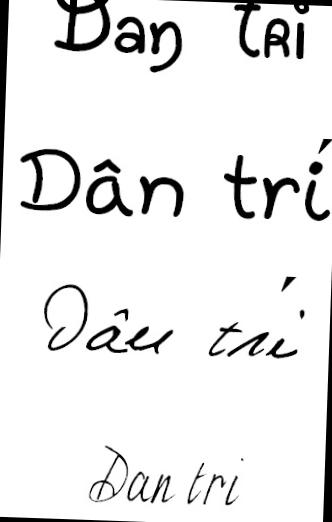text: (16, 125, 332, 229), (40, 266, 308, 366), (51, 0, 311, 81), (87, 442, 248, 510)
